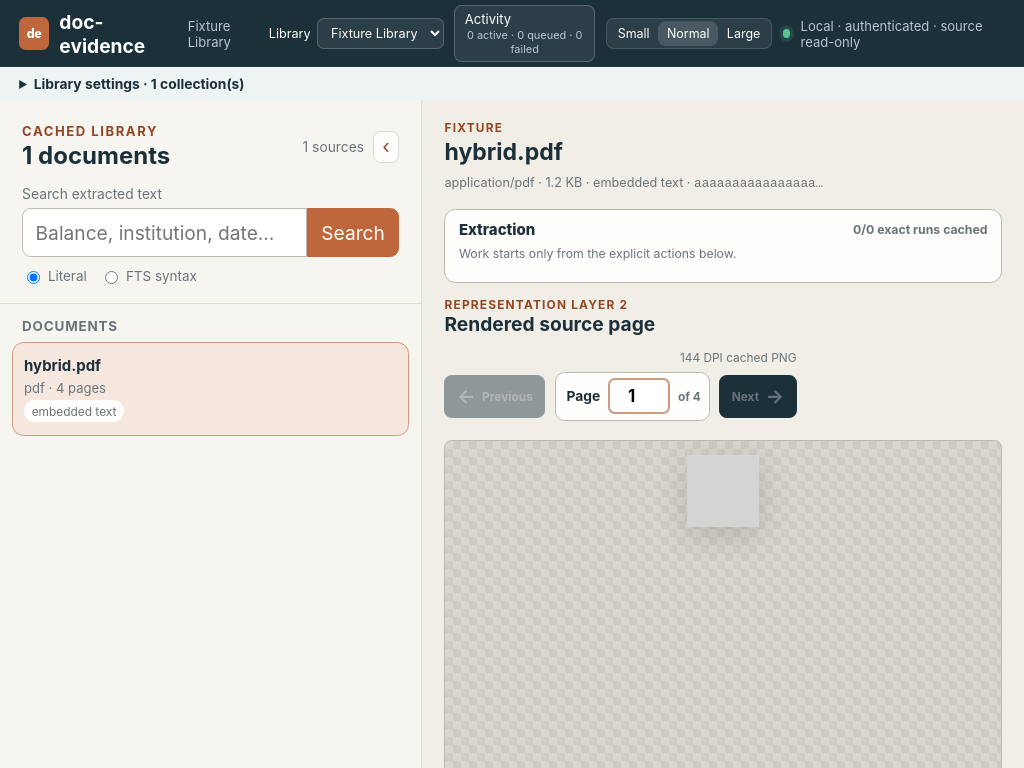
Test: application states › keeps prominent buttons and direct entry in the source-page toolbar
Check: the button with aria-label "Previous page" is disabled, box [444, 374, 545, 418]
Click the button with aria-label "Next page".
click(758, 396)  # box [719, 374, 797, 418]
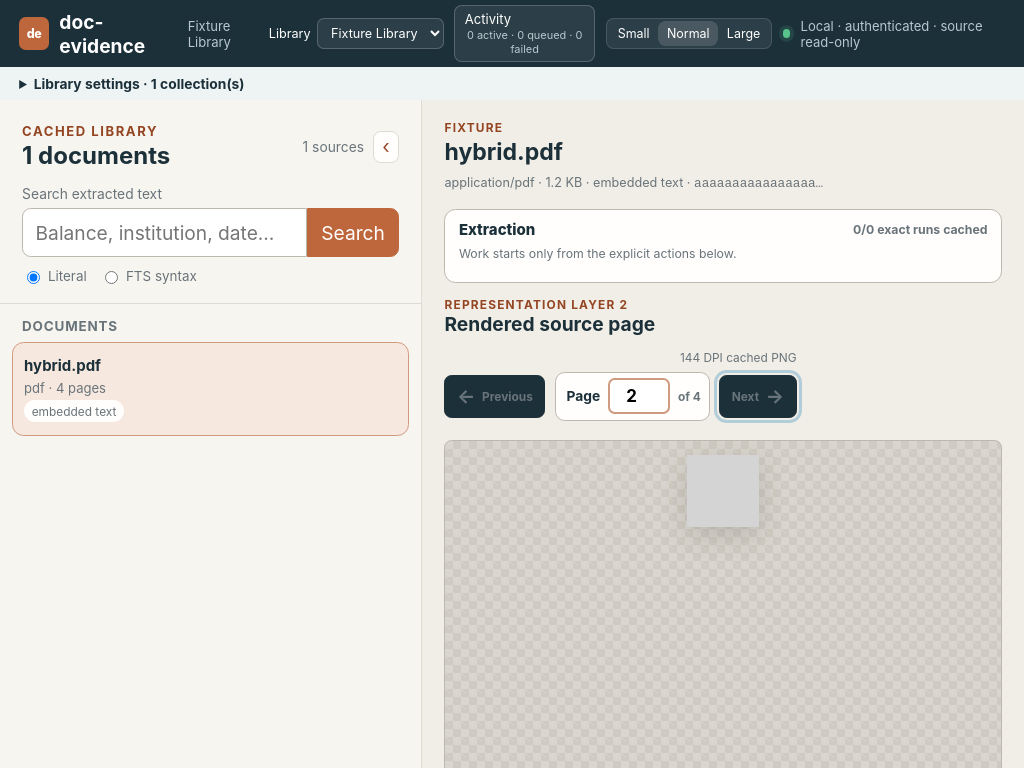
Replace the text in the number field named "Current page" with "4" at (639,396), box [608, 378, 670, 414]
Then press Enter
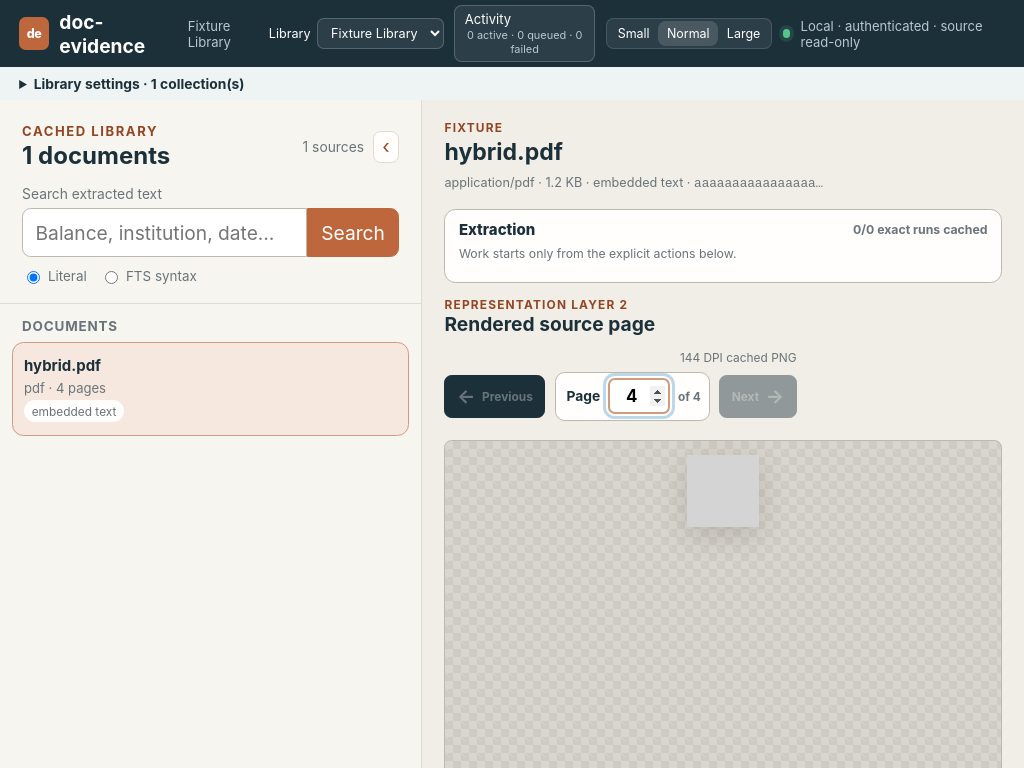
Check: the button with aria-label "Next page" is disabled, box [719, 374, 797, 418]
